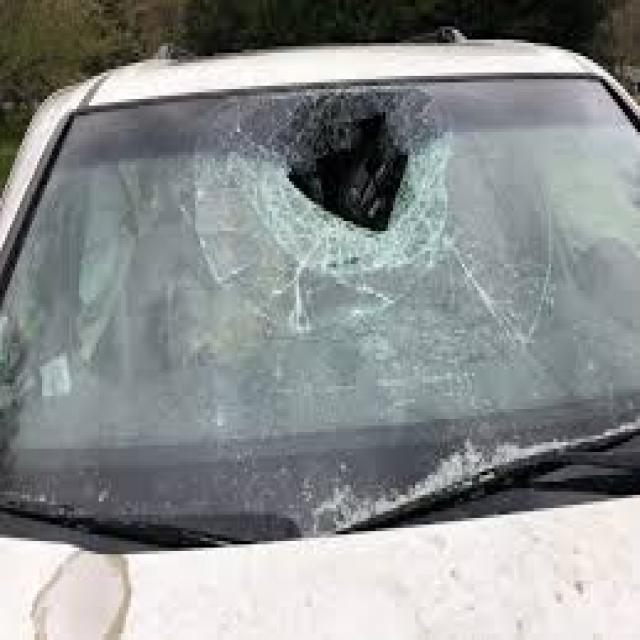damaged-windscreen: (0, 72, 640, 522)
